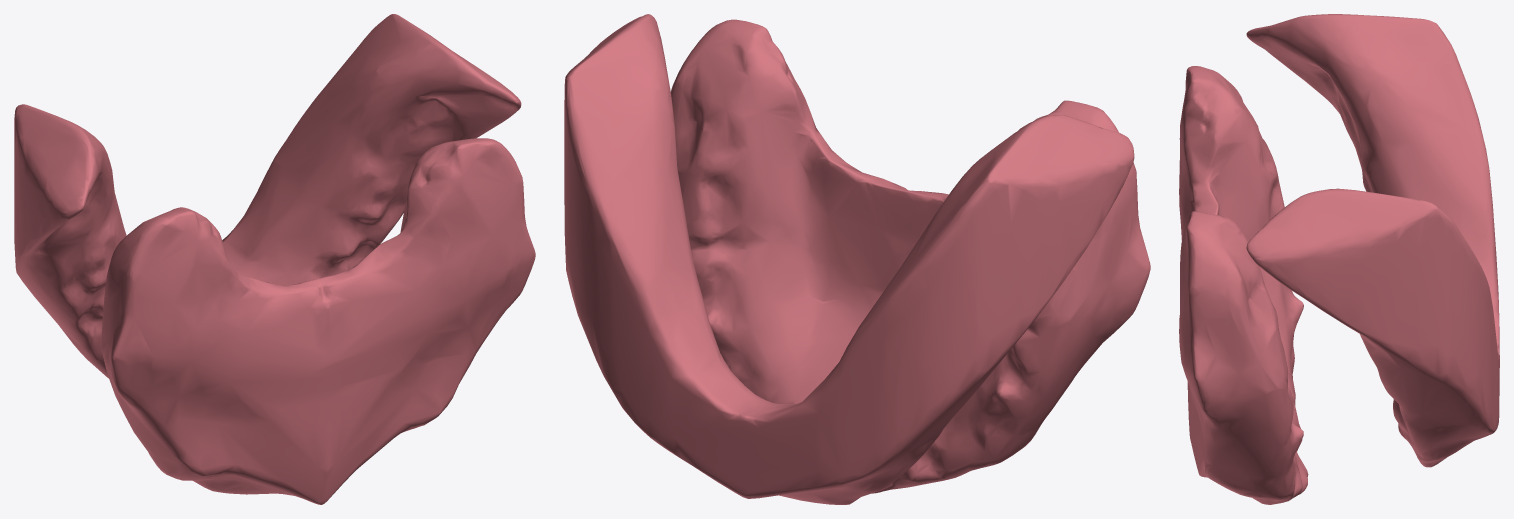
The picture shows the model from 3 angles, left to right: view 1: azimuth 30°, elevation 25°; view 2: azimuth 150°, elevation 25°; view 3: azimuth 270°, elevation 25°; orthographic projection. The views are drawn at different scales.
Visible parts, largest first — view 1: 牙龈; view 2: 牙龈; view 3: 牙龈.
Boxes of the visible parts, x1,y1,x2,y2 form: 牙龈: [14, 14, 535, 504]; 牙龈: [564, 14, 1150, 504]; 牙龈: [1179, 14, 1499, 504].
Bounding box in the file's own units: 0.1083 × 0.0868 × 0.0653.
